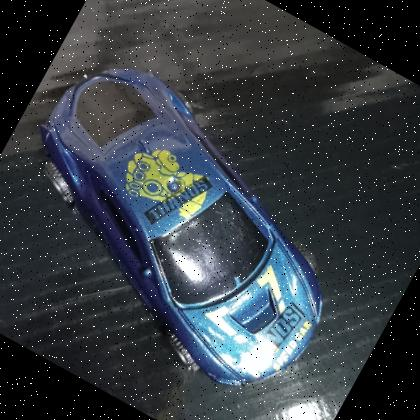Car: (38, 67, 322, 388)
